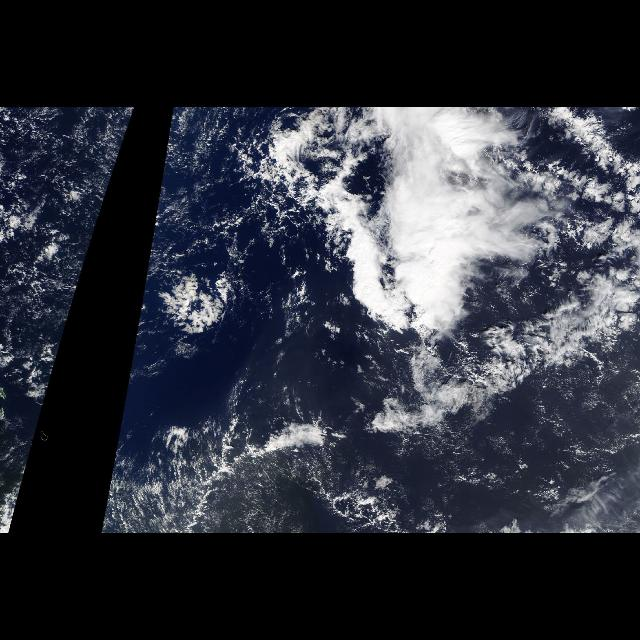Fish: (242, 333, 640, 495)
